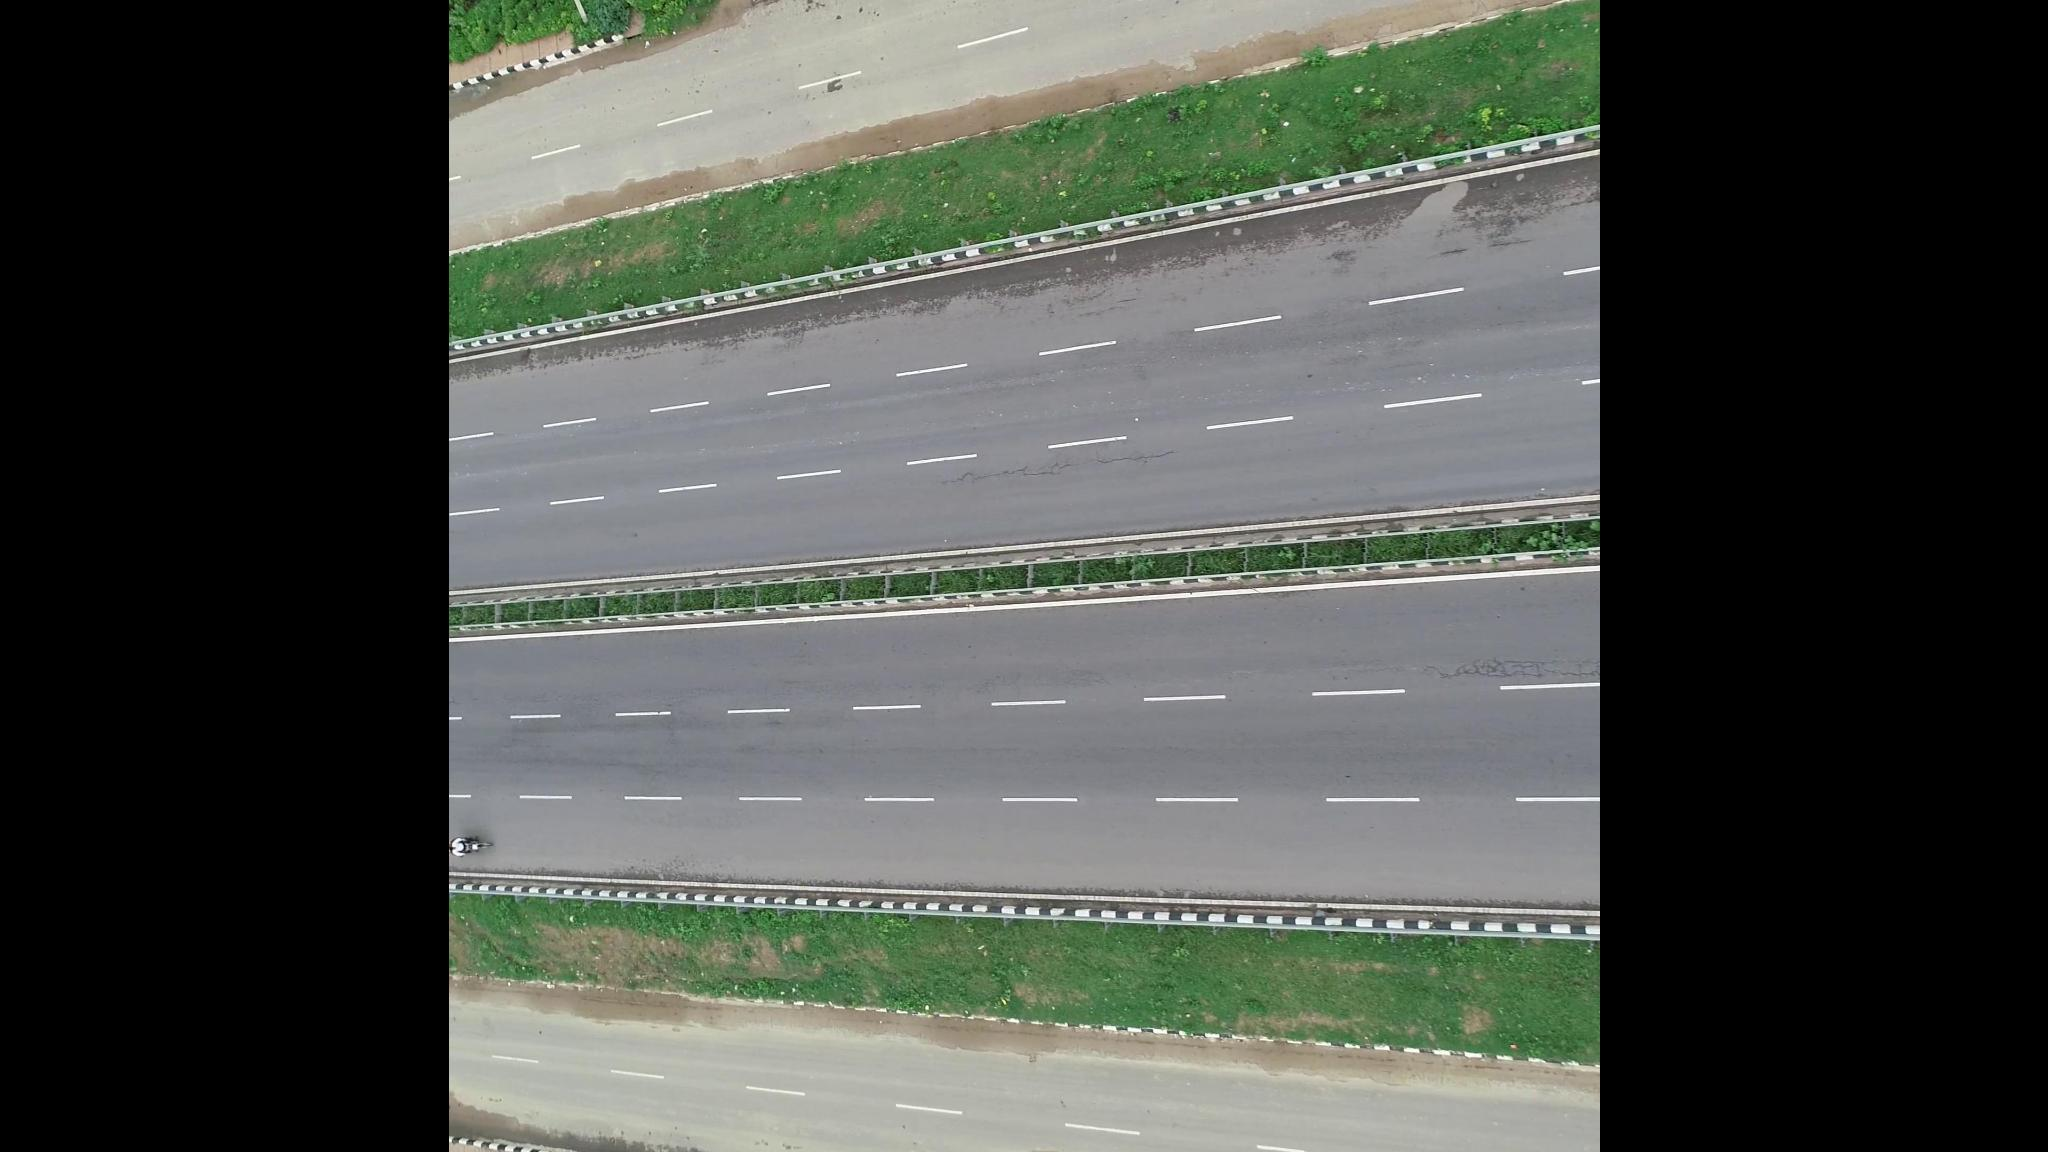Cracks: (942, 435, 1182, 499), (1411, 654, 1594, 689)
